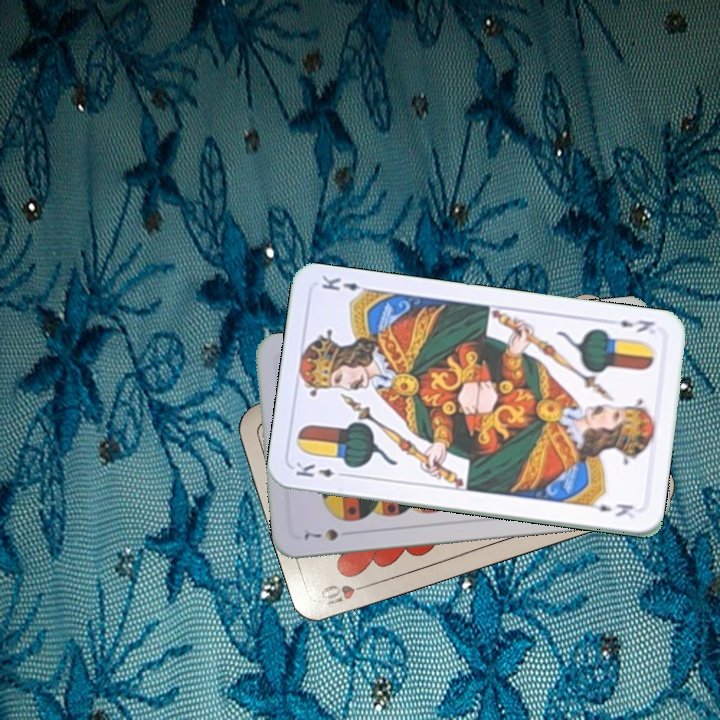EK: (291, 458, 350, 480), (604, 315, 657, 336)
H10: (316, 578, 375, 611)
S7: (300, 524, 341, 544)
